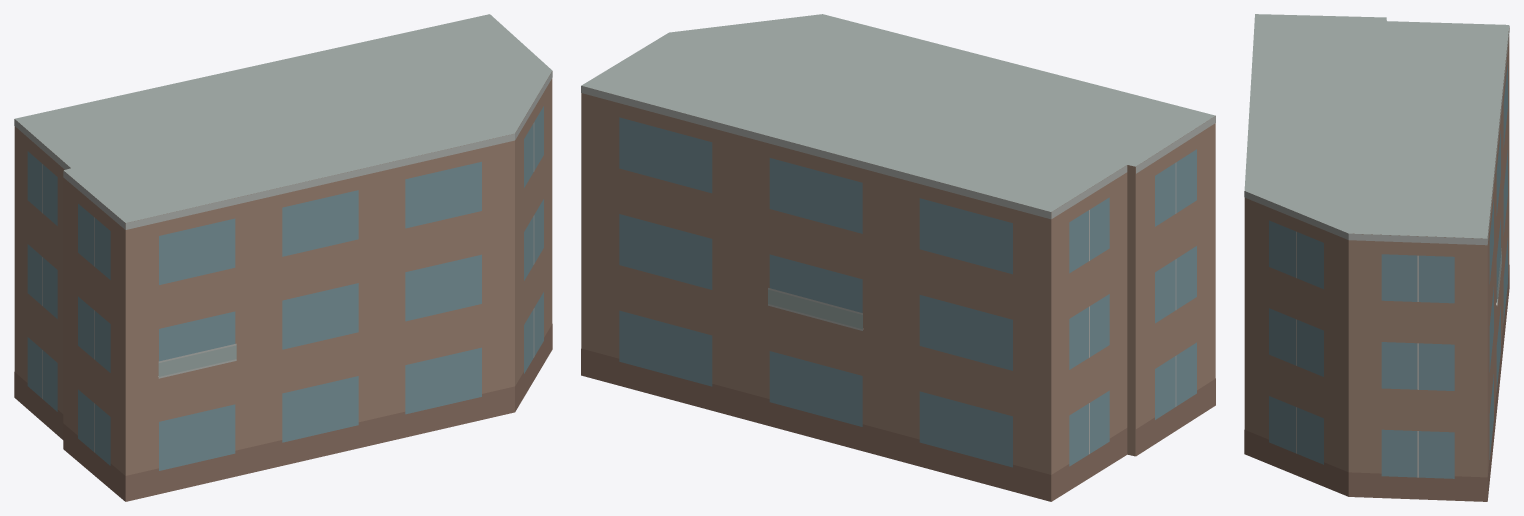
Rendered from survey-upis-32459811.glb.
The picture shows the model from 3 angles, left to right: view 1: azimuth 30°, elevation 25°; view 2: azimuth 150°, elevation 25°; view 3: azimuth 270°, elevation 25°; orthographic projection. The views are drawn at different scales.
Parts seen in each view (by area): view 1: survey-upis-32459811.tmp; view 2: survey-upis-32459811.tmp; view 3: survey-upis-32459811.tmp.
Boxes of the visible parts, box(x1,y1,x2,y2) form: survey-upis-32459811.tmp: box(14, 14, 552, 501); survey-upis-32459811.tmp: box(581, 14, 1215, 501); survey-upis-32459811.tmp: box(1244, 14, 1509, 501).
Bounding box in the file's own units: 17.76 × 9.7 × 8.86.
